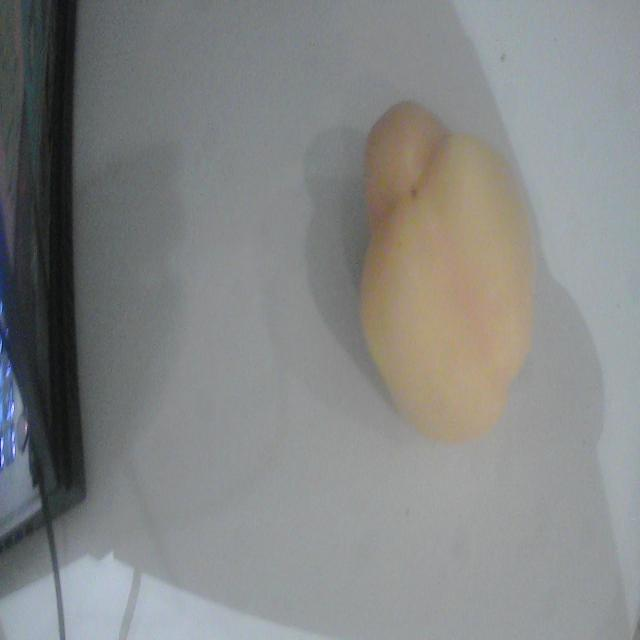Bell Pepper: (360, 102, 536, 443)
